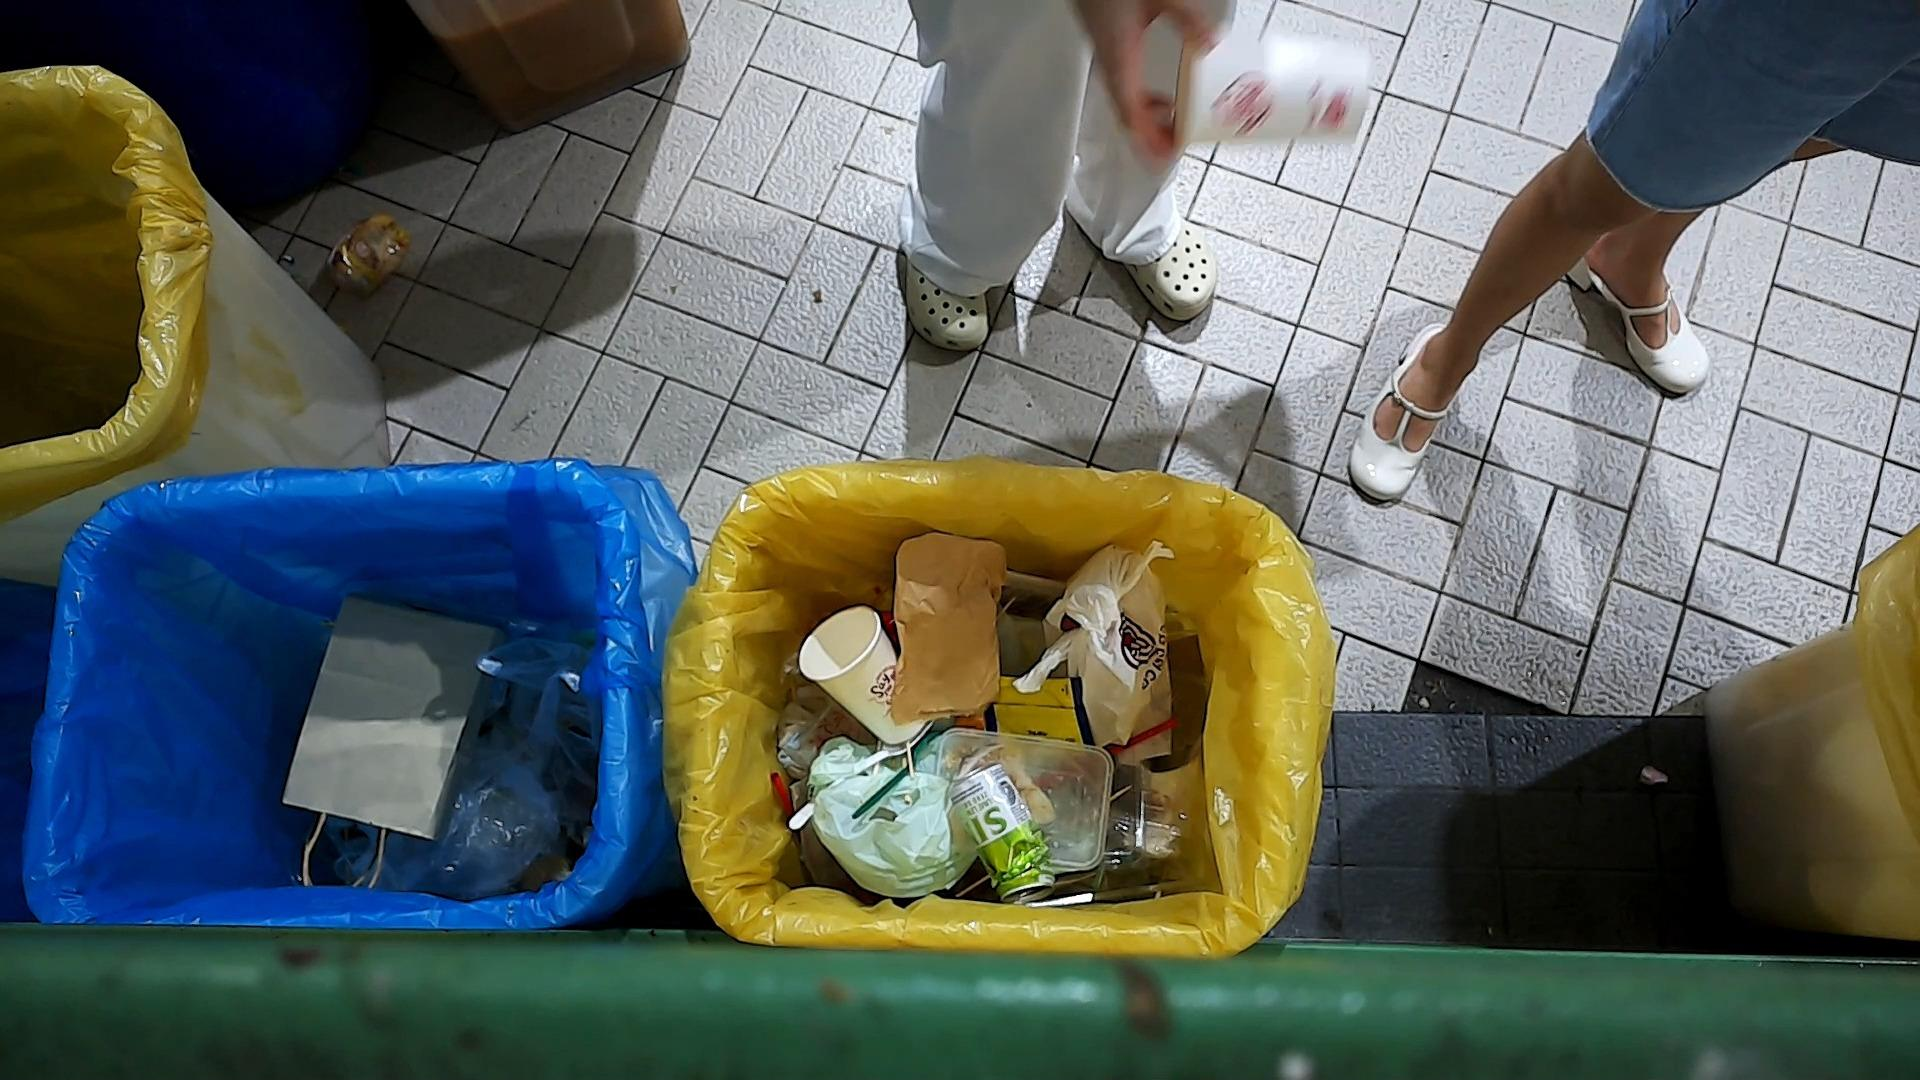can: (942, 757, 1060, 907)
dirty food container: (934, 724, 1118, 877)
filled plastic bag: (1010, 537, 1179, 761), (795, 731, 980, 902)
paper bag: (268, 587, 502, 891), (886, 531, 1009, 727)
plastic bag: (344, 676, 575, 906)
plastic cutlery: (785, 704, 944, 835), (849, 727, 949, 822)
snack packaging: (980, 671, 1097, 748)
straw: (1108, 715, 1182, 760)
zero waste cup: (1168, 12, 1378, 158), (798, 603, 935, 745)
